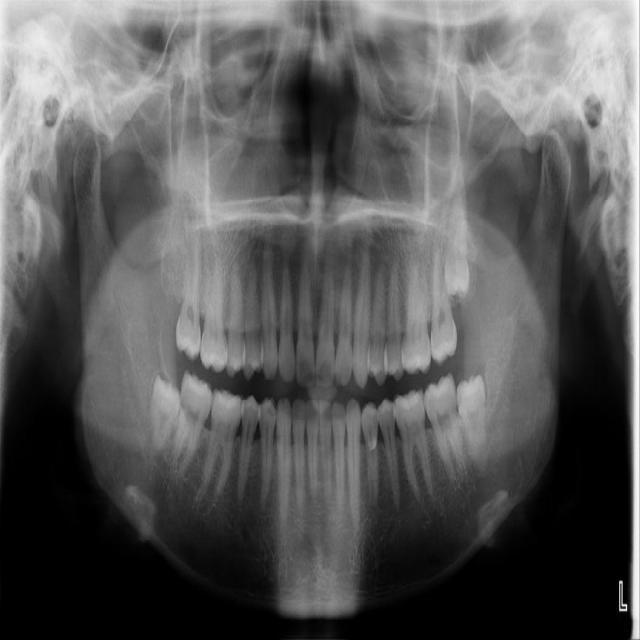52: (359, 400, 379, 446)
73: (586, 556, 590, 574)
BioHorizons Implant: (430, 248, 458, 367)
BioLife Implant: (439, 155, 471, 301)
Biomet 3i Implant: (455, 374, 489, 474)
Blue Sky Bio Implant: (421, 371, 466, 483)
Caries: (173, 218, 202, 363)
Implant: (169, 369, 217, 478)
Keystone Dental Implant: (145, 374, 184, 460)
